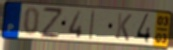0: (22, 7, 41, 38)
4: (134, 12, 152, 45), (67, 10, 84, 40)
I: (88, 9, 97, 41)
K: (114, 12, 133, 42)
Z: (40, 6, 63, 39)
